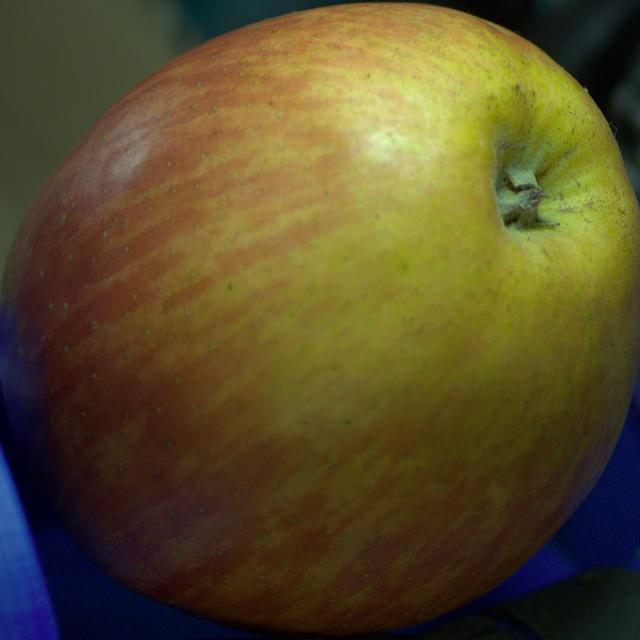apple: (0, 4, 639, 635)
